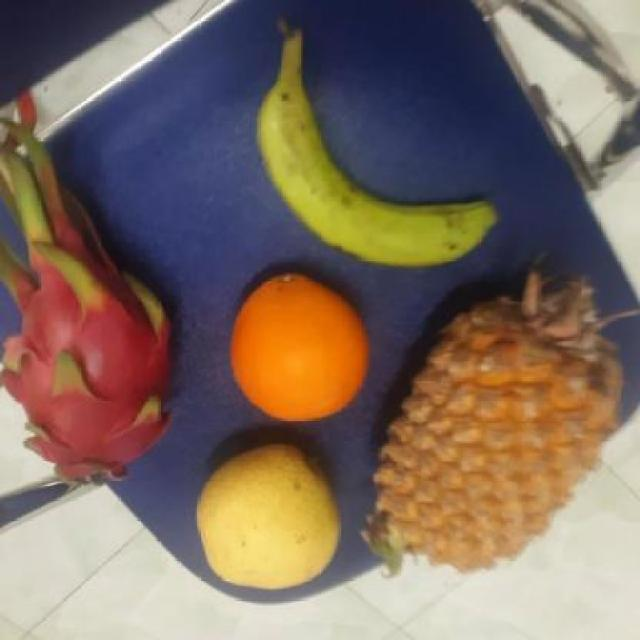banana: (254, 67, 486, 267)
dragon fruit: (0, 247, 172, 478)
oren: (226, 271, 369, 424)
pear: (192, 447, 341, 595)
pineapple: (373, 298, 635, 564)
